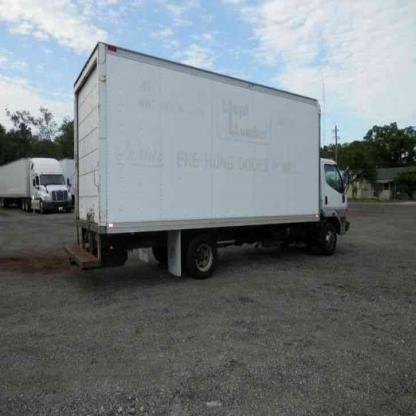truck: (70, 41, 353, 278), (1, 152, 75, 215)
